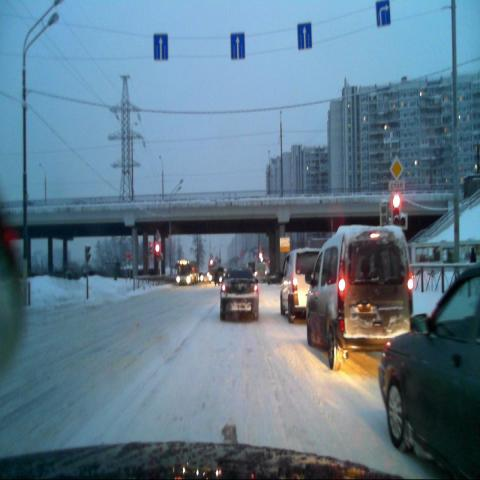5_15_2: (154, 33, 169, 60)
